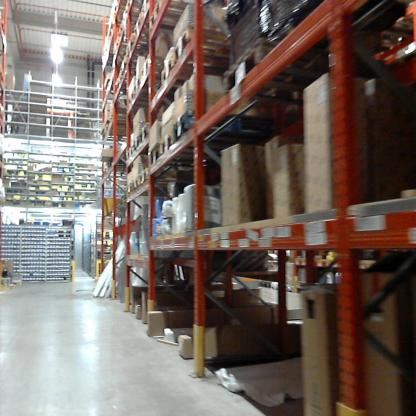pallet: (224, 38, 359, 102), (174, 109, 279, 144), (167, 27, 251, 68), (157, 51, 239, 92), (160, 131, 243, 157), (148, 2, 208, 35), (147, 142, 229, 166), (132, 20, 153, 42), (138, 56, 159, 76), (139, 122, 163, 139), (137, 0, 152, 27), (121, 34, 142, 53), (136, 67, 148, 100), (139, 166, 153, 188), (124, 89, 137, 109), (133, 172, 142, 194), (124, 179, 135, 197), (124, 143, 134, 162), (11, 278, 26, 288), (134, 133, 139, 156)
